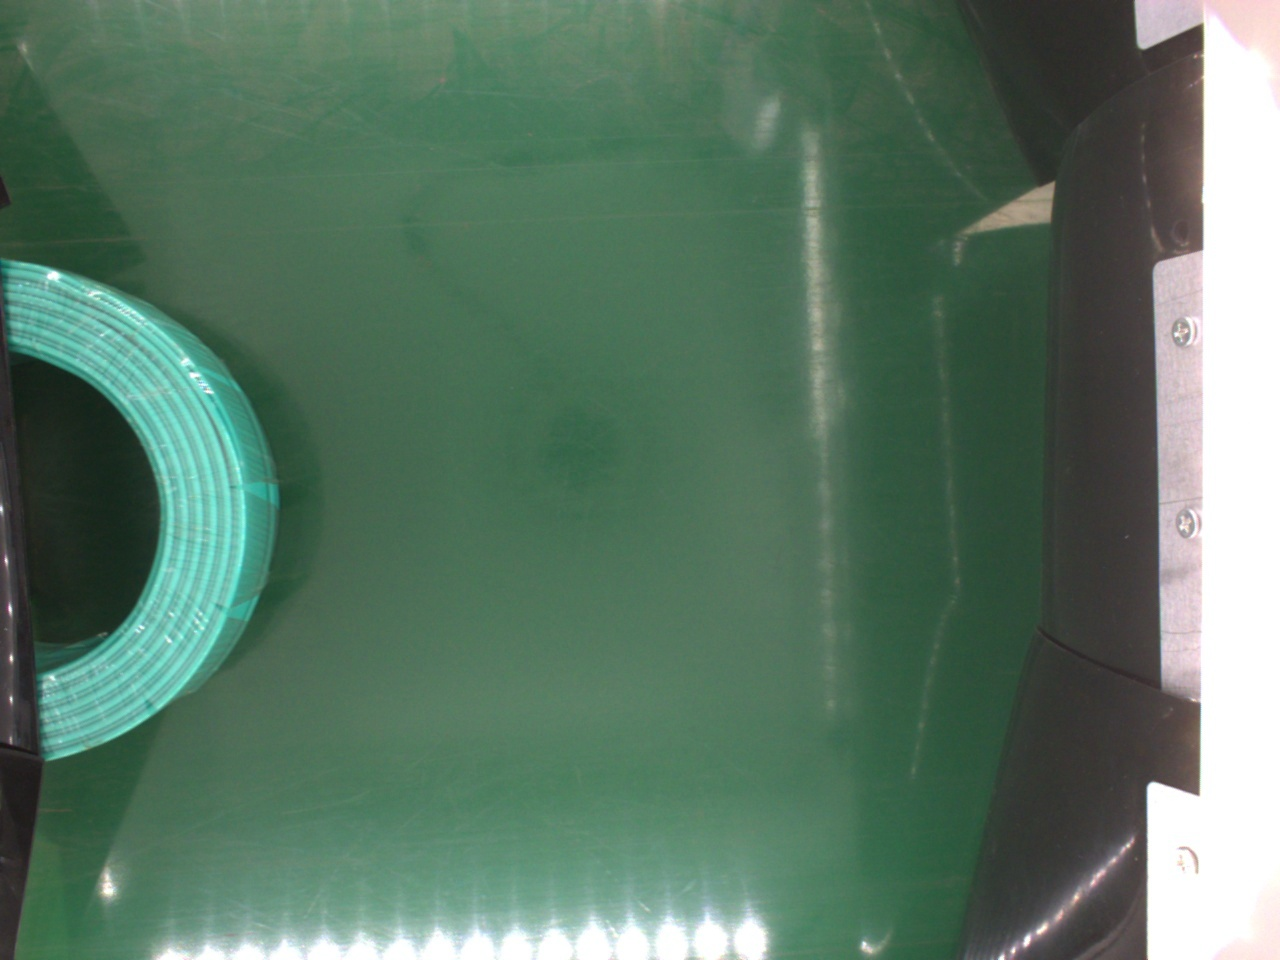green: (5, 253, 280, 759)
